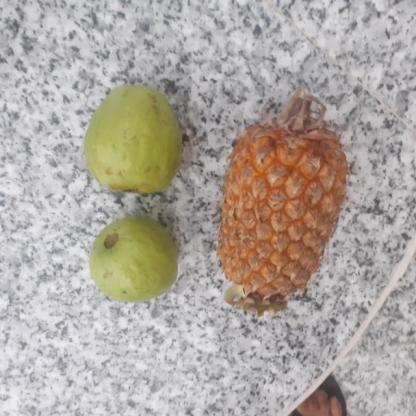guava: (79, 85, 182, 190), (85, 216, 178, 300)
pineapple: (217, 113, 349, 307)
